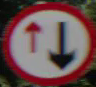Two way: (12, 9, 79, 77)
